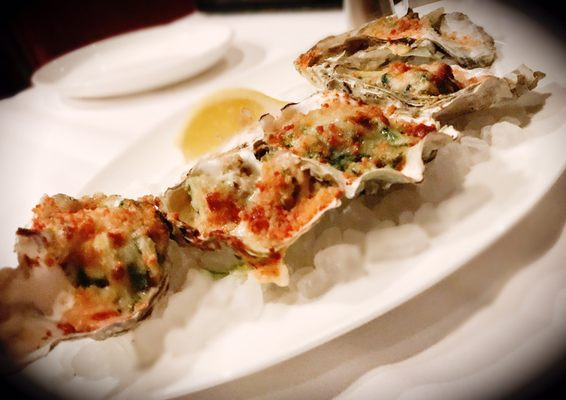curry: (3, 4, 566, 399)
